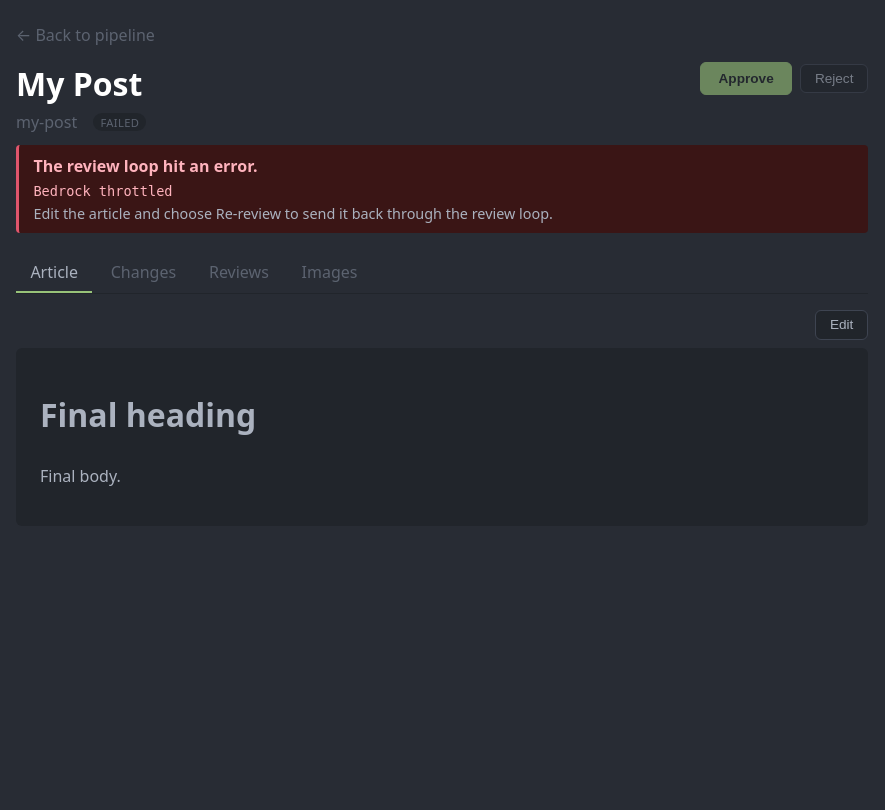
Test case: PostDetail — failed posts (PIPE-36) › Re-review submits the edited Markdown and reloads
This screenshot has width=885, height=810.
Expected: the heading "My Post" is shown, [16,62,146,105]
Click the button "Edit" at (842, 325), box [815,310,868,340]
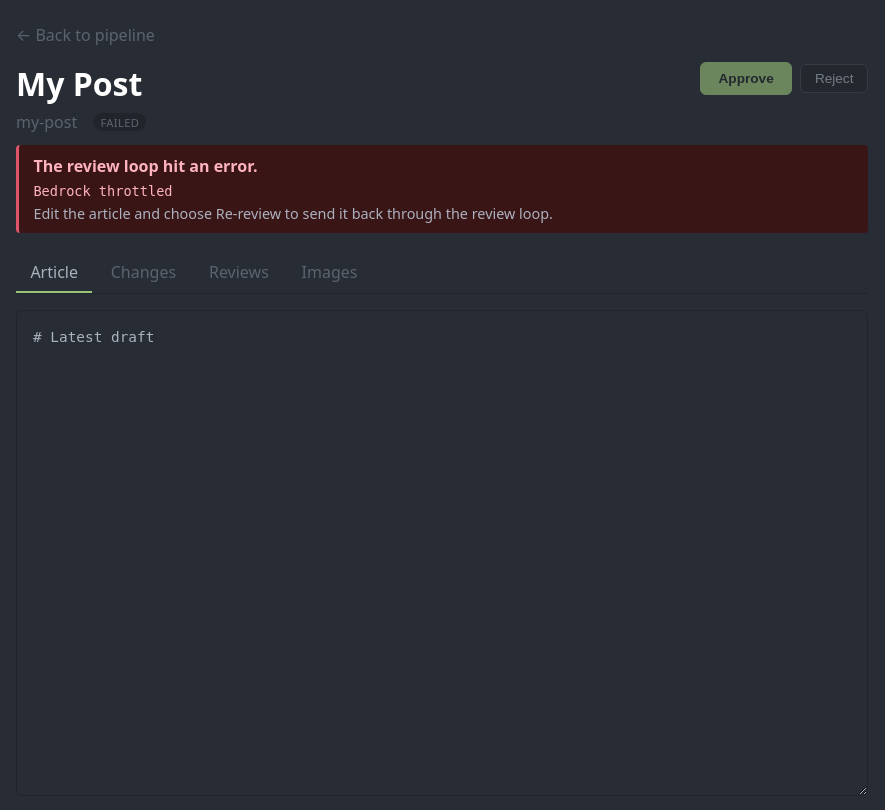
Replace the text in the text box named "Edit article Markdown" with "# Better" at (442, 553), box [16,310,868,796]
(page scrolled)
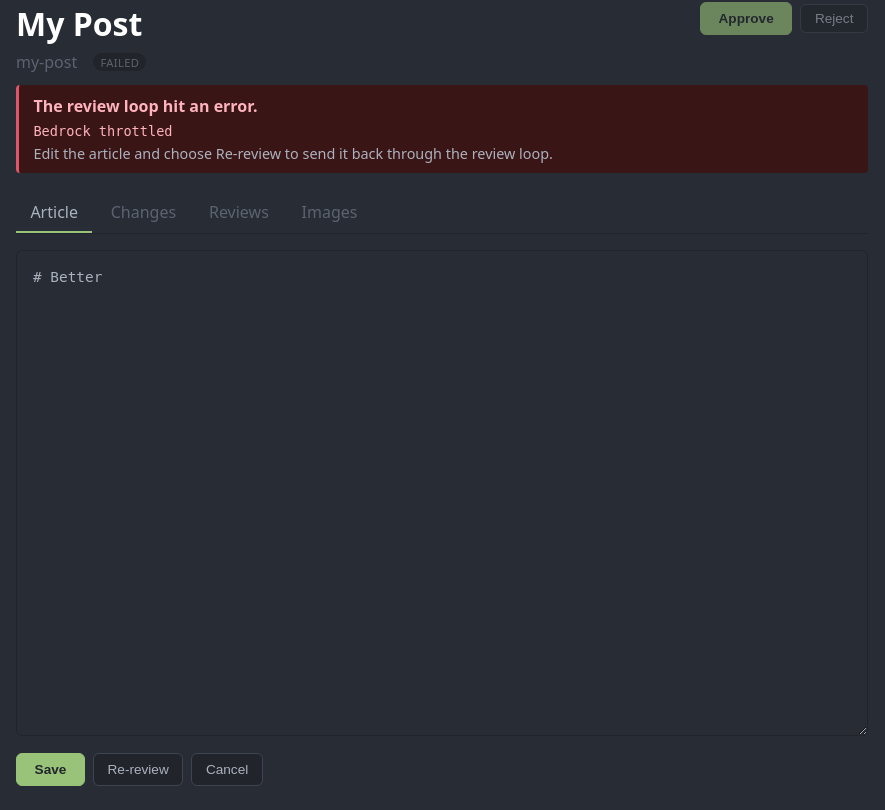
Click the button "Re-review" at (138, 769), box [93,753,183,786]
(page scrolled)
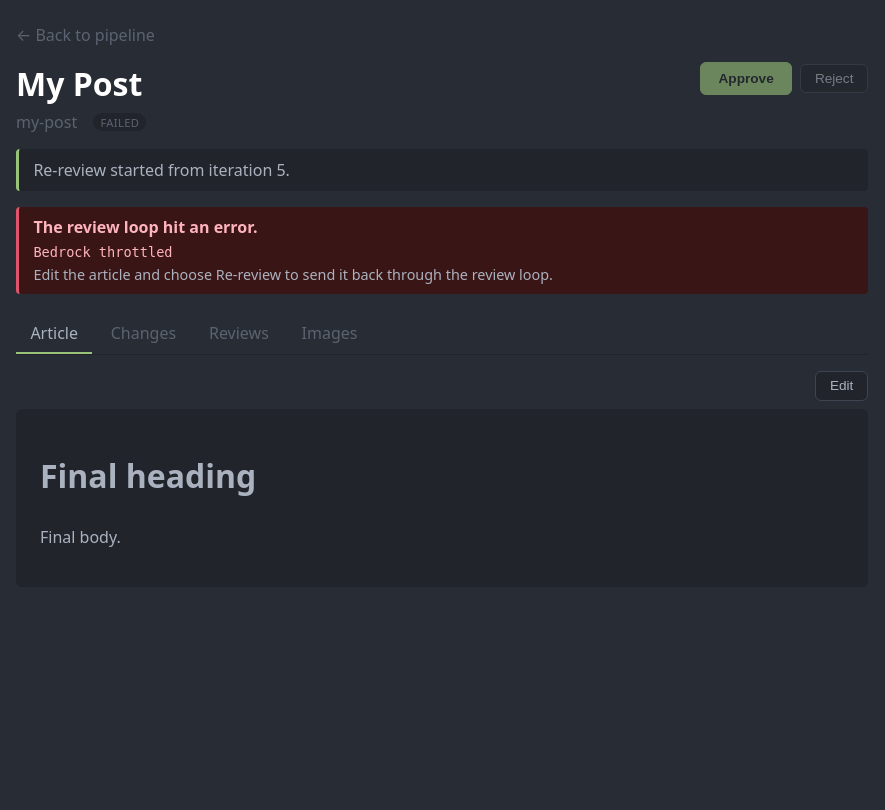
Now the text "Re-review started from iteration 5." is shown, box [16,149,868,191]
